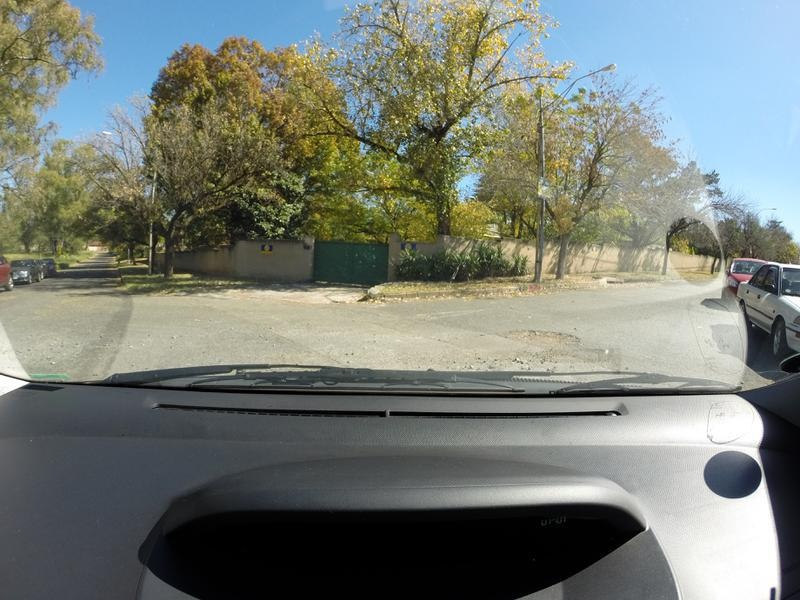pothole: (489, 326, 587, 349), (519, 344, 615, 367)
